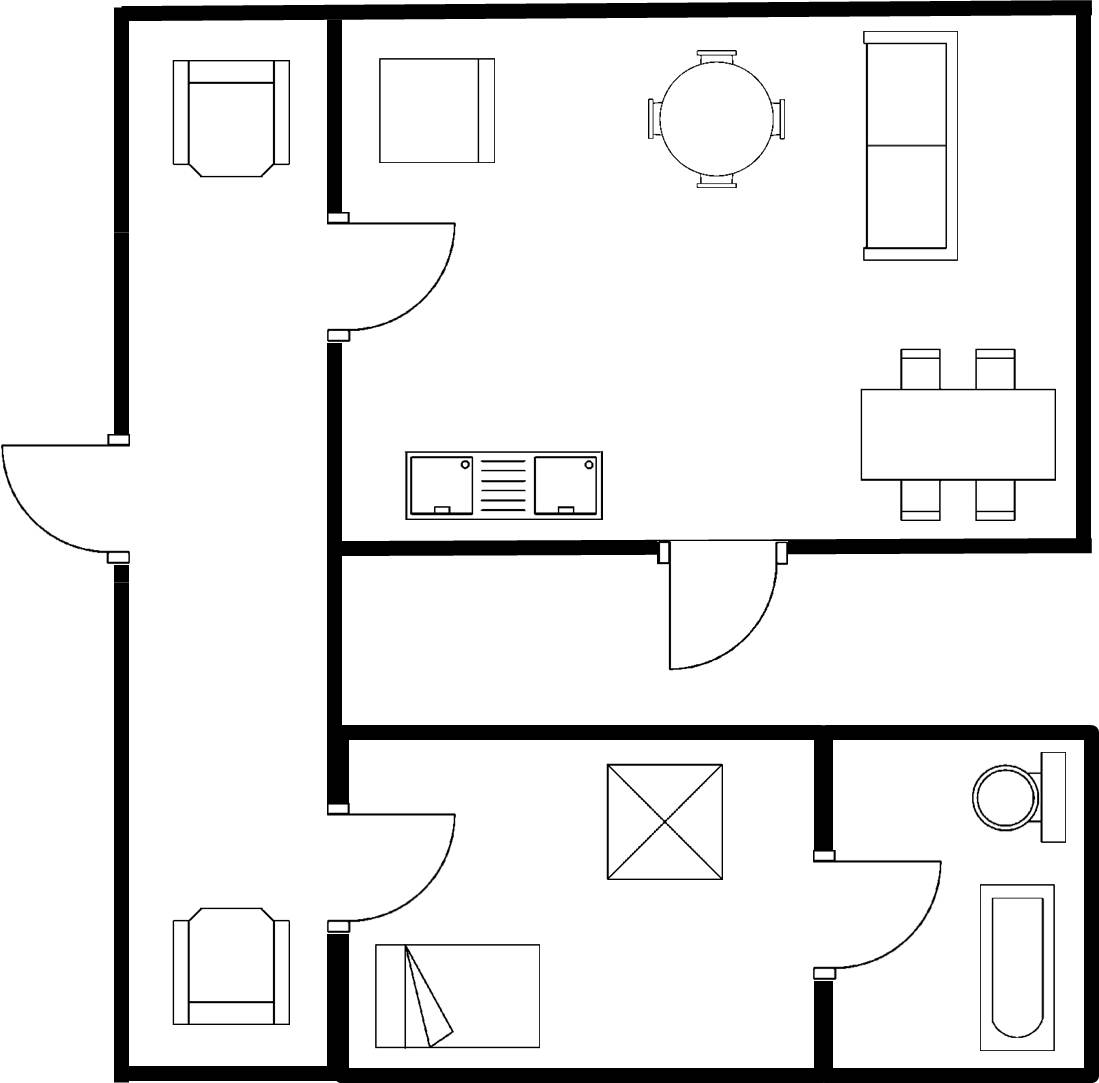armchair: (166, 900, 298, 1035), (165, 52, 300, 183)
bed: (367, 938, 548, 1054)
coffee_table: (596, 755, 731, 892)
dining_table: (852, 341, 1064, 532)
large_sink: (959, 747, 1073, 849)
large_sofa: (853, 25, 968, 270)
round_table: (641, 44, 793, 197)
small_sofa: (371, 47, 505, 174)
tub: (969, 874, 1062, 1058)
twin_sink: (400, 442, 608, 531)
